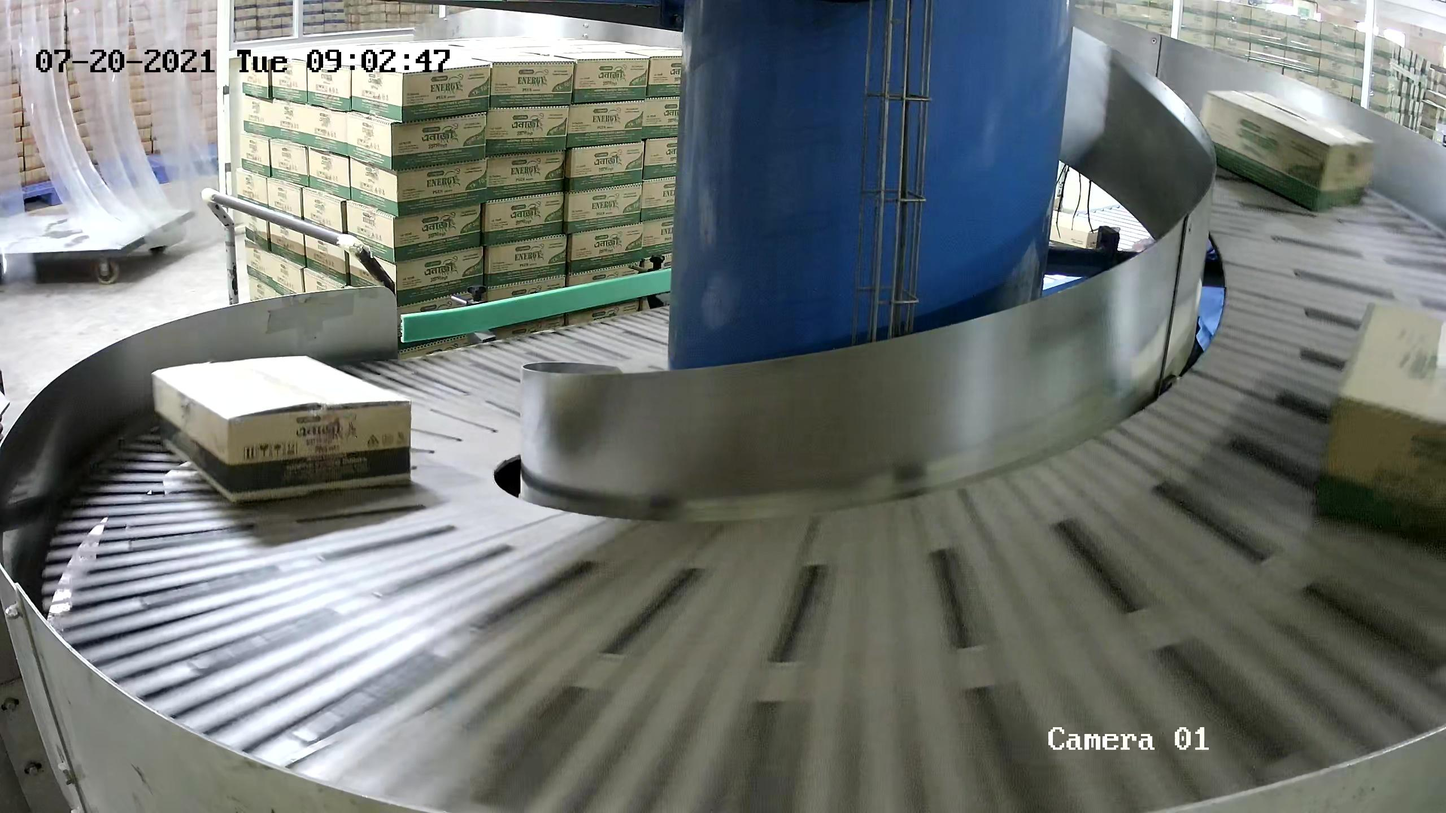Box: (152, 354, 413, 505), (1312, 300, 1446, 552), (1197, 89, 1376, 214)
